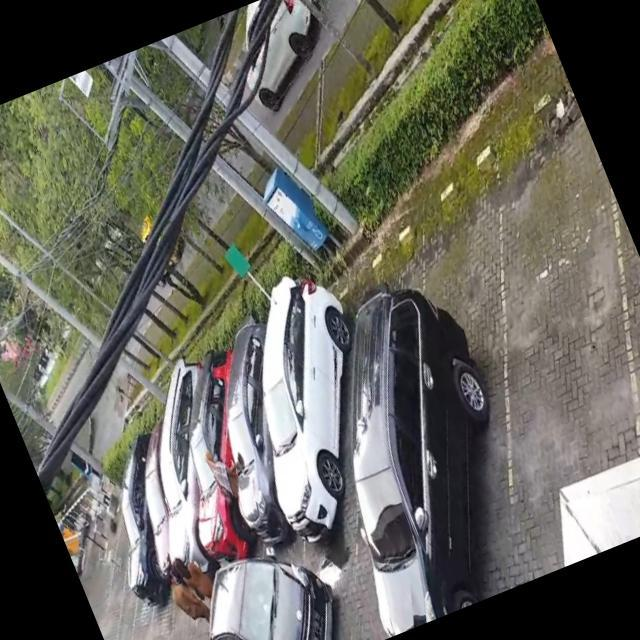empty: (425, 111, 640, 489)
occupied: (354, 207, 558, 522), (221, 336, 372, 572)
